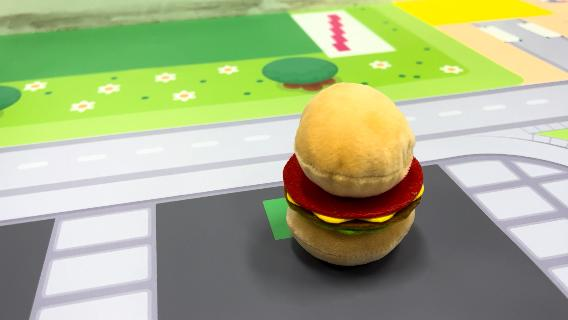burger: (280, 80, 428, 268)
